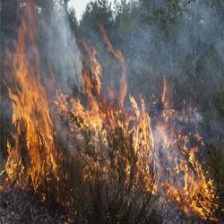fire: (5, 78, 223, 219)
